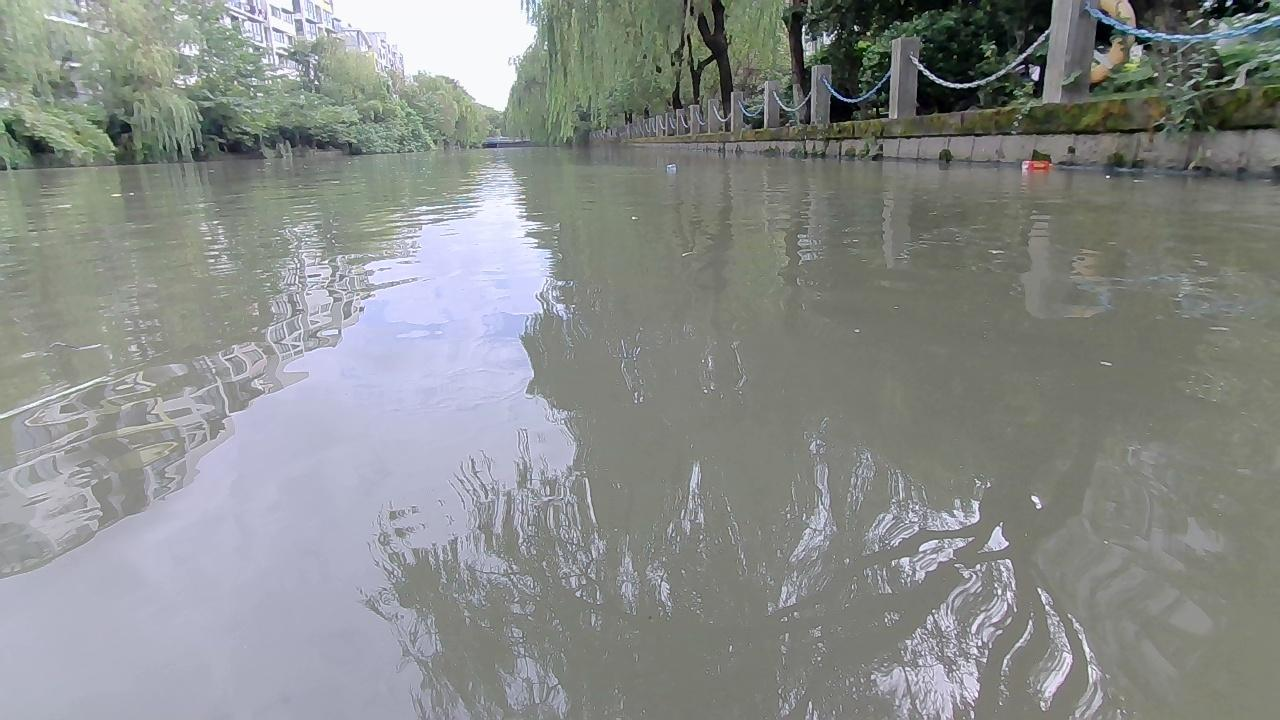bottle: (1018, 158, 1056, 170), (661, 162, 679, 177)
